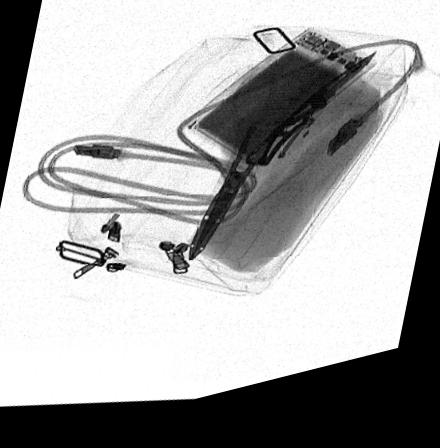Knife: (244, 69, 379, 182)
Powerbank: (184, 39, 377, 177)
Scissors: (186, 83, 340, 274)
